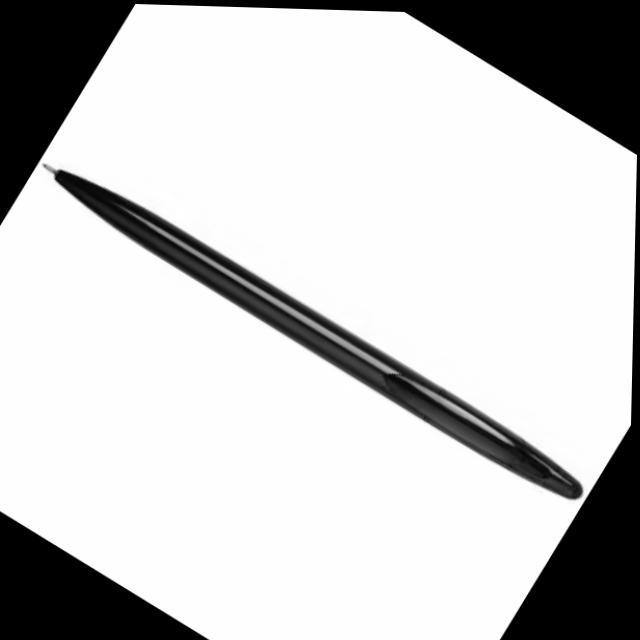pencil: (32, 155, 583, 515)
